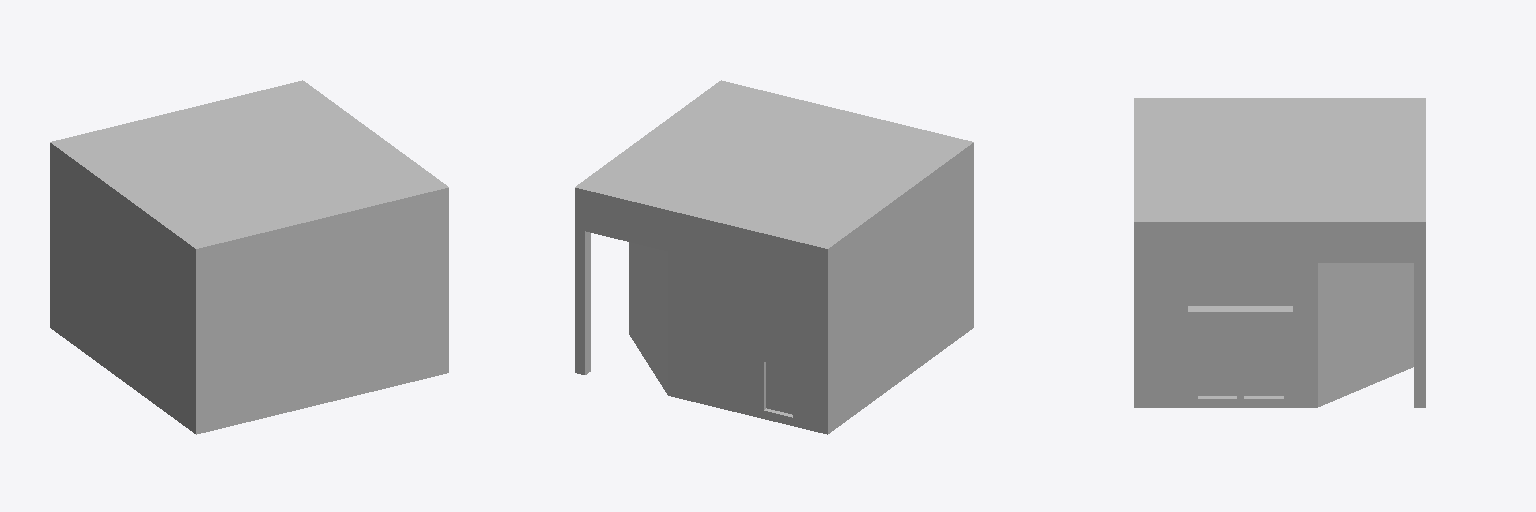
The model's file is pitsGarageCorner.obj.
3 renders of one model, left to right at view 1: azimuth 30°, elevation 25°; view 2: azimuth 150°, elevation 25°; view 3: azimuth 270°, elevation 25°, orthographic.
Visible parts, largest first — view 1: pitsGarageCorner; view 2: pitsGarageCorner; view 3: pitsGarageCorner.
Boxes of the visible parts, <box> form: pitsGarageCorner: <box>50,80,448,434</box>; pitsGarageCorner: <box>575,80,973,434</box>; pitsGarageCorner: <box>1134,98,1425,407</box>.
Size of the model in its own units: 10.5 by 7 by 10.